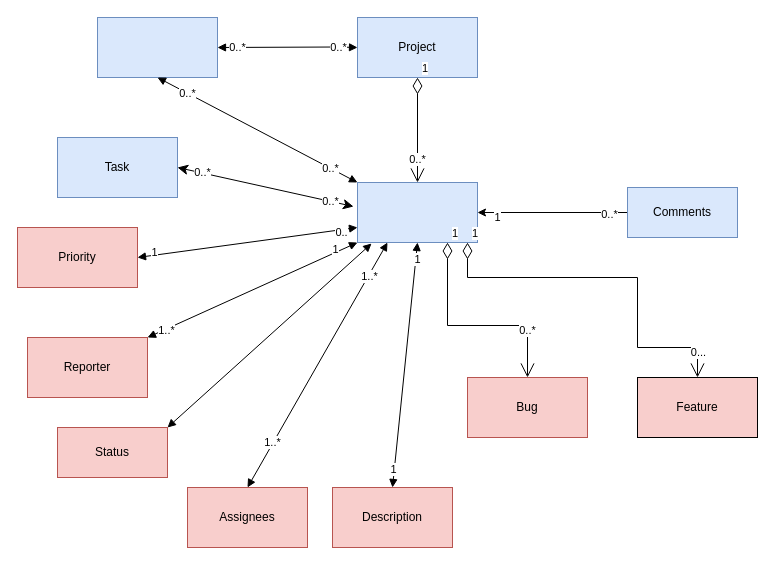
This 775x565 diagram has some shape labels left out. The shapes that lost their labels are listed below. From the top down, each one's centre as x and y in pixels, then its label:
the point at 157,47: User
the point at 417,212: WorkItem
